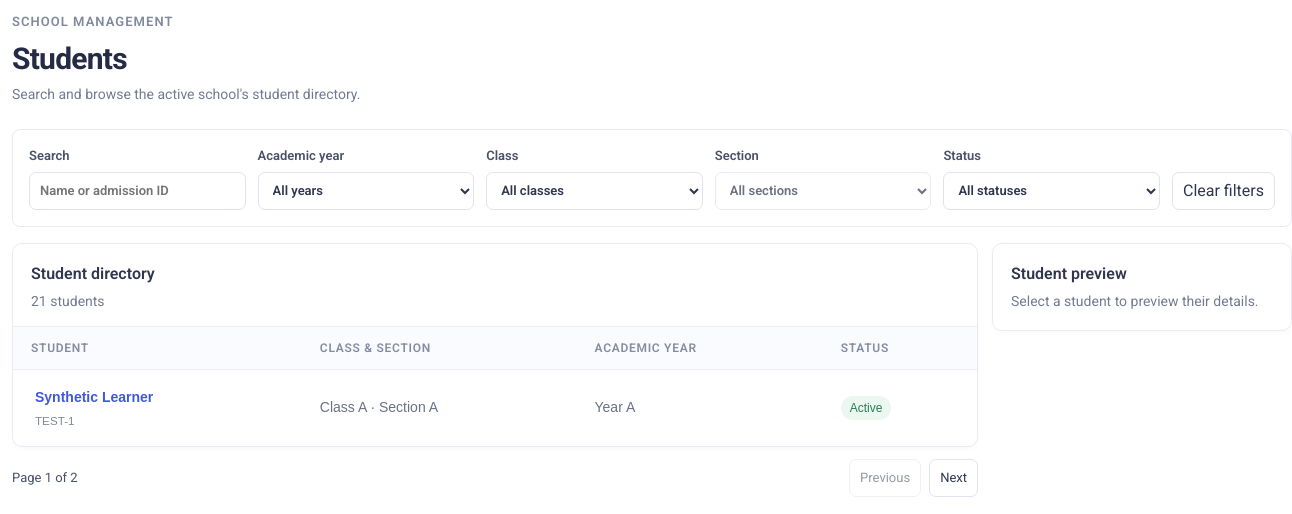
Test: API student directory › sends selected filters, resets pagination, and suppresses ambiguous placements
The width and height of the screenshot is (1292, 514).
Later steps or results of the test are not shown.
Click the button "Next". click: (954, 478)
box: [929,459,978,497]
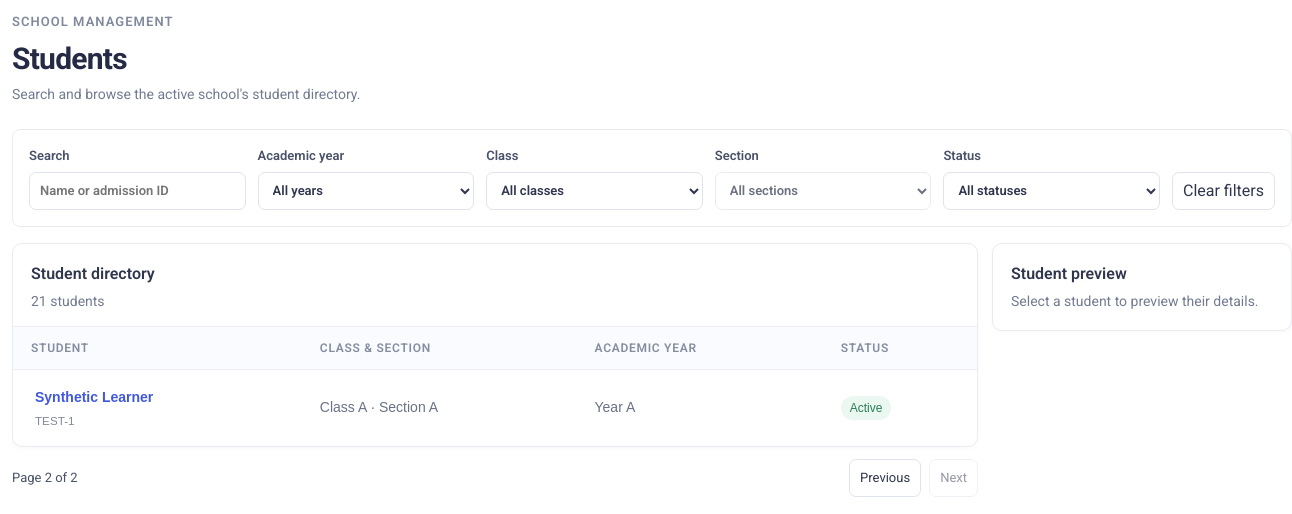
Expected: the dropdown labelled "Class" is enabled, [486,172,703,210]
Result: the text "Page 2 of 2" is shown at [12,468,78,488]
